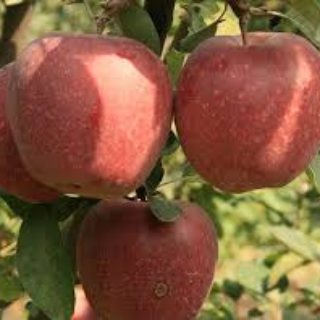tao: (6, 26, 175, 204), (174, 31, 318, 198)
